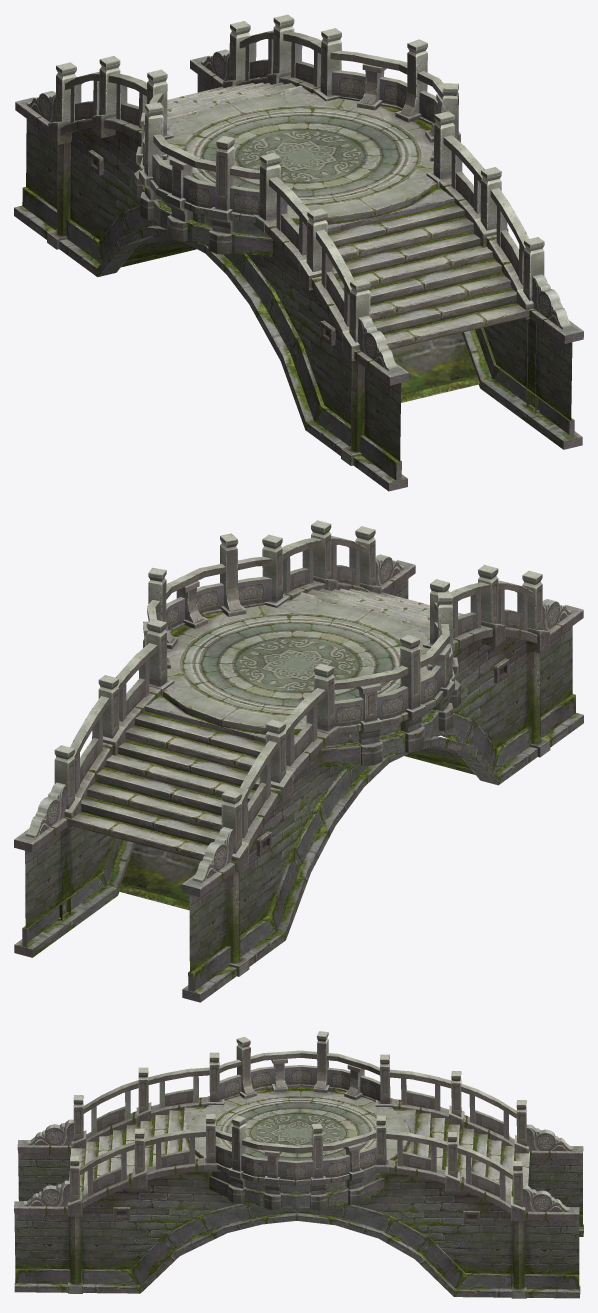
Rendered from Hangzhou_wj_028.FBX.
The picture shows the model from 3 angles, top to bottom: view 1: azimuth 30°, elevation 25°; view 2: azimuth 150°, elevation 25°; view 3: azimuth 270°, elevation 25°; orthographic projection. The views are drawn at different scales.
Visible parts, largest first — view 1: DrawCall_0723; view 2: DrawCall_0723; view 3: DrawCall_0723.
Part boxes in pixels (<box>): DrawCall_0723: <box>14,14,583,491</box>; DrawCall_0723: <box>14,520,583,1002</box>; DrawCall_0723: <box>14,1031,583,1298</box>.
Size of the model in its own units: 457 by 384 by 1069.
